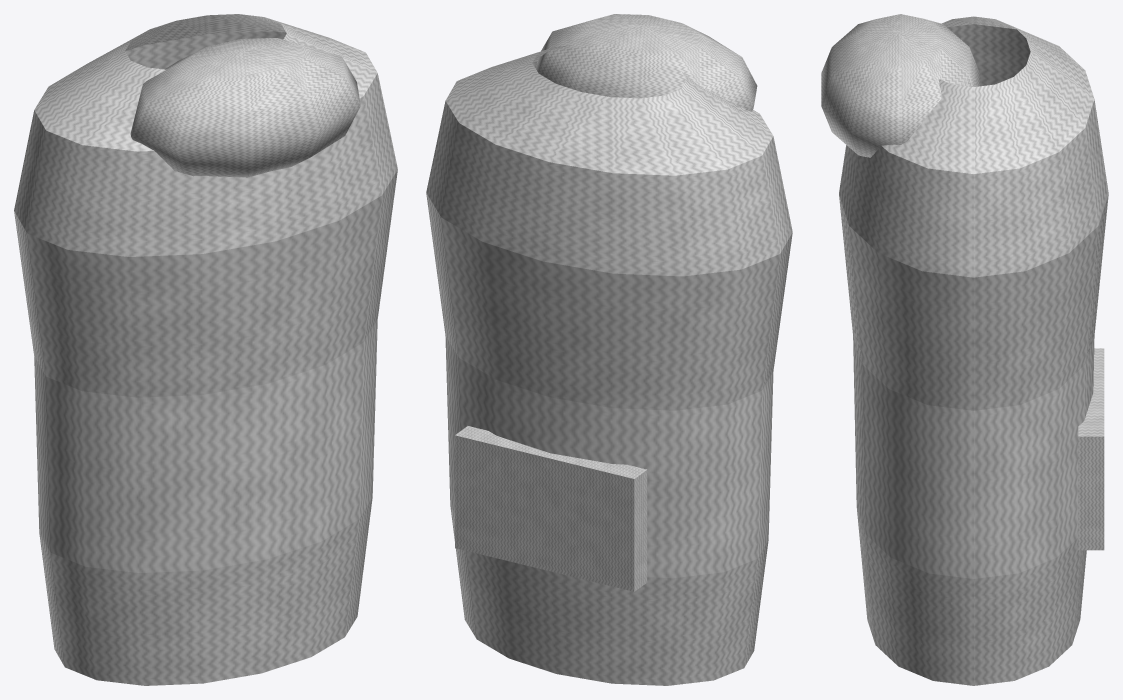
File: char_thief_torso.obj
The picture shows the model from 3 angles, left to right: view 1: azimuth 30°, elevation 25°; view 2: azimuth 150°, elevation 25°; view 3: azimuth 270°, elevation 25°; orthographic projection. The views are drawn at different scales.
Parts seen in each view (by area): view 1: char_thief_torso; view 2: char_thief_torso; view 3: char_thief_torso.
Part boxes in pixels (bbox=[...]): char_thief_torso: bbox=[14, 14, 397, 685]; char_thief_torso: bbox=[426, 14, 792, 685]; char_thief_torso: bbox=[821, 14, 1108, 685].
Size of the model in its own units: 0.38 by 0.62 by 0.2753.
Materials: 1 (1 with a texture image).
